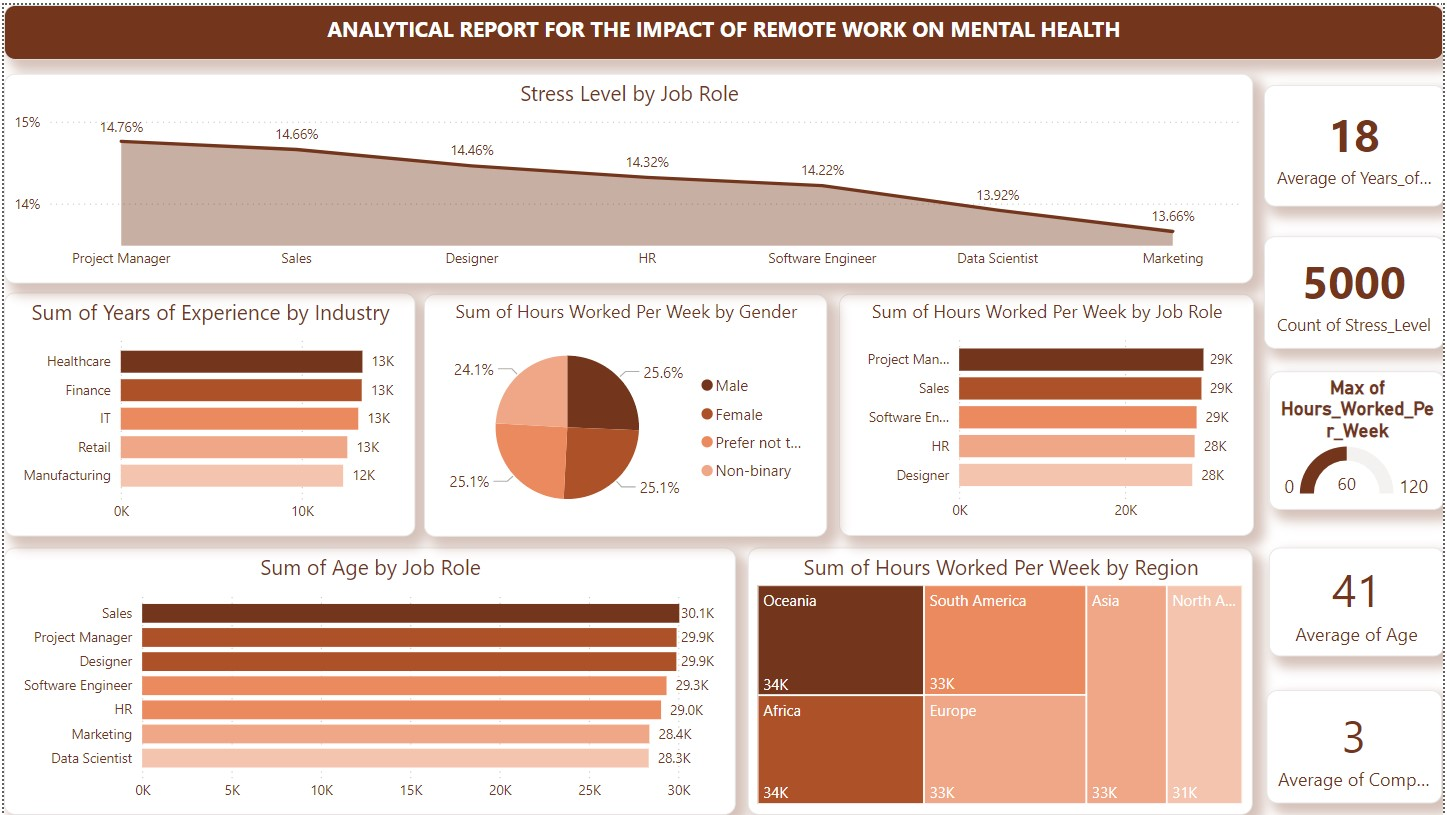

This screenshot's page, from the dashboard's own definition file:
{"tool":"powerbi","page":{"name":"Page 1","canvas":[1280,720],"ordinal":0},"visuals":[{"type":"barChart","title":"Sum of Age by Job Role","fields":{"Category":["Impact_of_Remote_Work_on_Mental_Health.Job_Role"],"Y":["Sum(Impact_of_Remote_Work_on_Mental_Health.Age)"]},"box":[0,482.2,650,237.8],"z":0},{"type":"textbox","box":[0,0,1280.2,48.8],"z":1000},{"type":"treemap","title":"Sum of Hours Worked Per Week by Region","fields":{"Group":["Impact_of_Remote_Work_on_Mental_Health.Region"],"Values":["Sum(Impact_of_Remote_Work_on_Mental_Health.Hours_Worked_Per_Week)"]},"box":[661.6,482.6,448.8,237.2],"z":2000},{"type":"barChart","title":"Sum of Years of Experience by Industry","fields":{"Category":["Impact_of_Remote_Work_on_Mental_Health.Industry"],"Y":["Sum(Impact_of_Remote_Work_on_Mental_Health.Years_of_Experience)"]},"box":[0,255.6,365.6,216.7],"z":3000},{"type":"barChart","title":"Sum of Hours Worked Per Week by Job Role","fields":{"Category":["Impact_of_Remote_Work_on_Mental_Health.Job_Role"],"Y":["Sum(Impact_of_Remote_Work_on_Mental_Health.Hours_Worked_Per_Week)"]},"box":[741.9,257,368.6,215.1],"z":4000},{"type":"pieChart","title":"Sum of Hours Worked Per Week by Gender","fields":{"Category":["Impact_of_Remote_Work_on_Mental_Health.Gender"],"Y":["Sum(Impact_of_Remote_Work_on_Mental_Health.Hours_Worked_Per_Week)"]},"box":[373.3,257,358.1,216.3],"z":5000},{"type":"areaChart","title":"Stress Level by Job Role","fields":{"Y":["CountNonNull(Impact_of_Remote_Work_on_Mental_Health.Stress_Level)"],"Category":["Impact_of_Remote_Work_on_Mental_Health.Job_Role"]},"box":[0,61.6,1110.5,186],"z":6000},{"type":"gauge","fields":{"Y":["Max(Impact_of_Remote_Work_on_Mental_Health.Hours_Worked_Per_Week)"]},"box":[1124.4,325.6,155.8,123.3],"z":7000},{"type":"card","fields":{"Values":["Avg(Impact_of_Remote_Work_on_Mental_Health.Years_of_Experience)"]},"box":[1119.8,70.9,160.5,108.1],"z":8000},{"type":"card","fields":{"Values":["CountNonNull(Impact_of_Remote_Work_on_Mental_Health.Stress_Level)"]},"box":[1119.8,205.8,160.5,100],"z":9000},{"type":"card","fields":{"Values":["Avg(Impact_of_Remote_Work_on_Mental_Health.Age)"]},"box":[1124.4,482.6,155.8,96.5],"z":10000},{"type":"card","fields":{"Values":["Avg(Impact_of_Remote_Work_on_Mental_Health.Company_Support_for_Remote_Work)"]},"box":[1122.1,609.3,155.8,101.2],"z":11000}]}

Visuals, with their boxes in screenshot pixels (x1, y1, x2, y2), scaled from the page's 1280x720 canvas onto the 1447x815 screenshot:
"Sum of Age by Job Role" barChart: detection(0, 546, 735, 814)
textbox: detection(0, 0, 1446, 55)
"Sum of Hours Worked Per Week by Region" treemap: detection(748, 546, 1255, 814)
"Sum of Years of Experience by Industry" barChart: detection(0, 289, 413, 535)
"Sum of Hours Worked Per Week by Job Role" barChart: detection(839, 291, 1255, 534)
"Sum of Hours Worked Per Week by Gender" pieChart: detection(422, 291, 827, 536)
"Stress Level by Job Role" areaChart: detection(0, 70, 1255, 280)
gauge - Max(Impact_of_Remote_Work_on_Mental_Health.Hours_Worked_Per_Week): detection(1271, 369, 1446, 508)
card - Avg(Impact_of_Remote_Work_on_Mental_Health.Years_of_Experience): detection(1266, 80, 1446, 203)
card - CountNonNull(Impact_of_Remote_Work_on_Mental_Health.Stress_Level): detection(1266, 233, 1446, 346)
card - Avg(Impact_of_Remote_Work_on_Mental_Health.Age): detection(1271, 546, 1446, 656)
card - Avg(Impact_of_Remote_Work_on_Mental_Health.Company_Support_for_Remote_Work): detection(1268, 690, 1445, 804)
